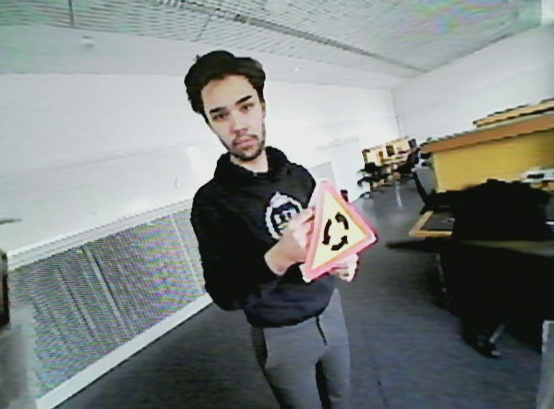roundabout_warning: (293, 172, 379, 285)
